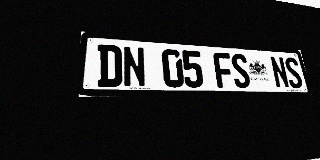0: (161, 49, 184, 88)
5: (181, 50, 204, 88)
D: (97, 44, 122, 87)
F: (213, 52, 235, 88)
N: (122, 46, 146, 87), (269, 56, 290, 88)
S: (230, 53, 252, 88), (283, 57, 304, 88)
